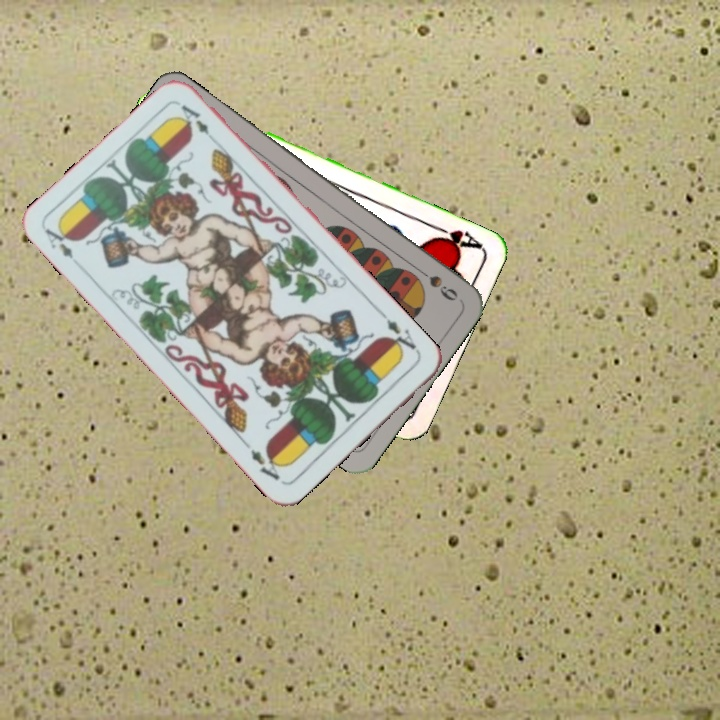EA: (377, 308, 422, 359), (41, 221, 76, 262)
HA: (427, 220, 484, 254)
S9: (410, 262, 461, 304)
